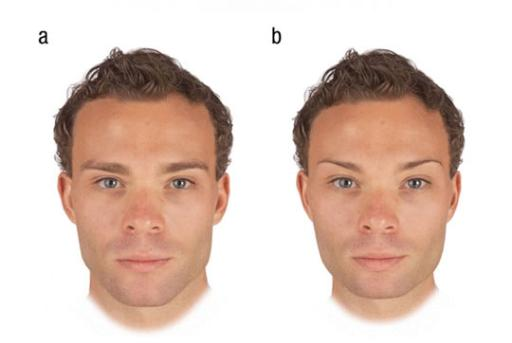left_eye: (164, 178, 200, 194), (400, 178, 436, 194)
left_lip_corner: (161, 254, 180, 266), (394, 252, 412, 263)
right_eye: (93, 177, 130, 193), (327, 177, 363, 193)
right_lip_corner: (113, 255, 129, 268), (348, 253, 364, 265)
